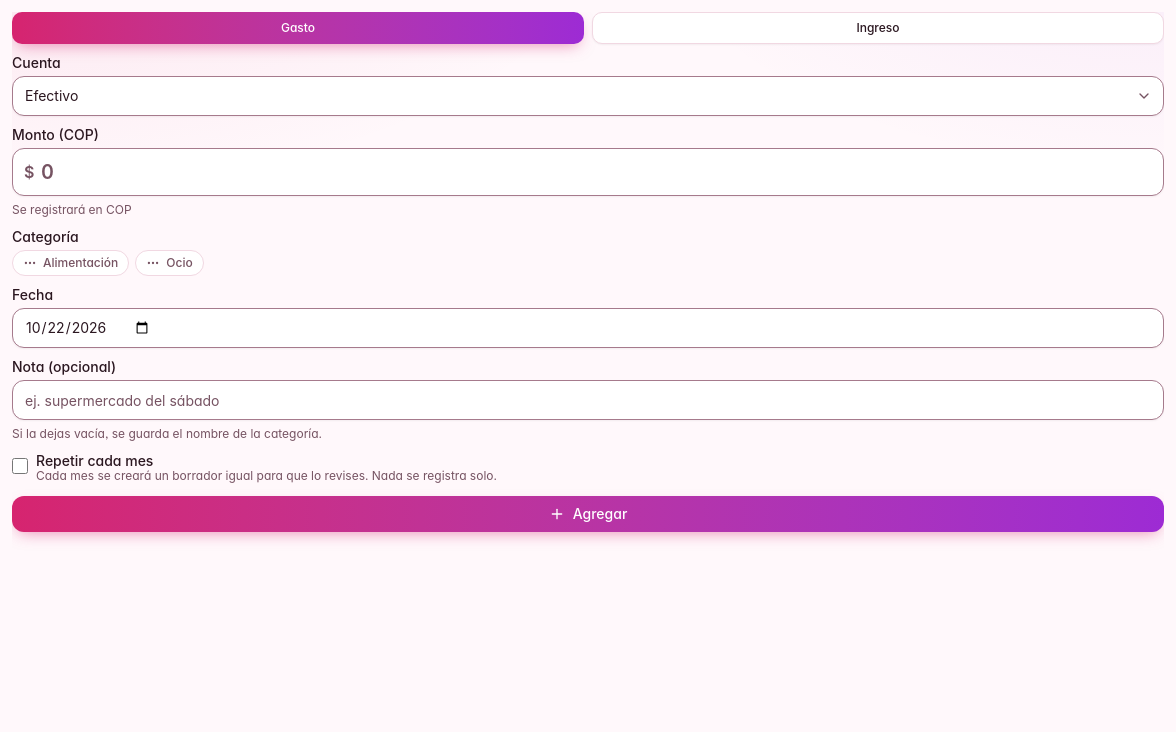
Scenario: QuickTransactionForm › no registra nada sin categoría
The width and height of the screenshot is (1176, 732).
Type "15000" into the field labelled "Monto (COP)" at [588, 172], box [12,148,1164,196]
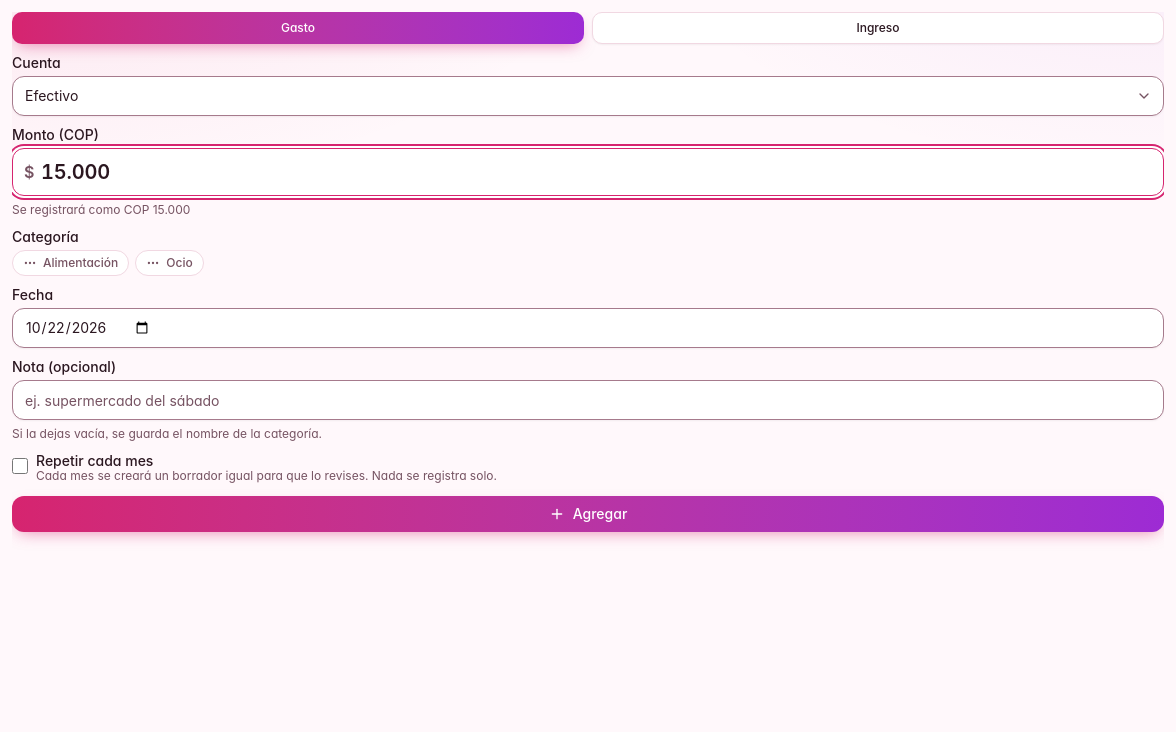
Click the button "Agregar" at [588, 514], box [12,496,1164,532]
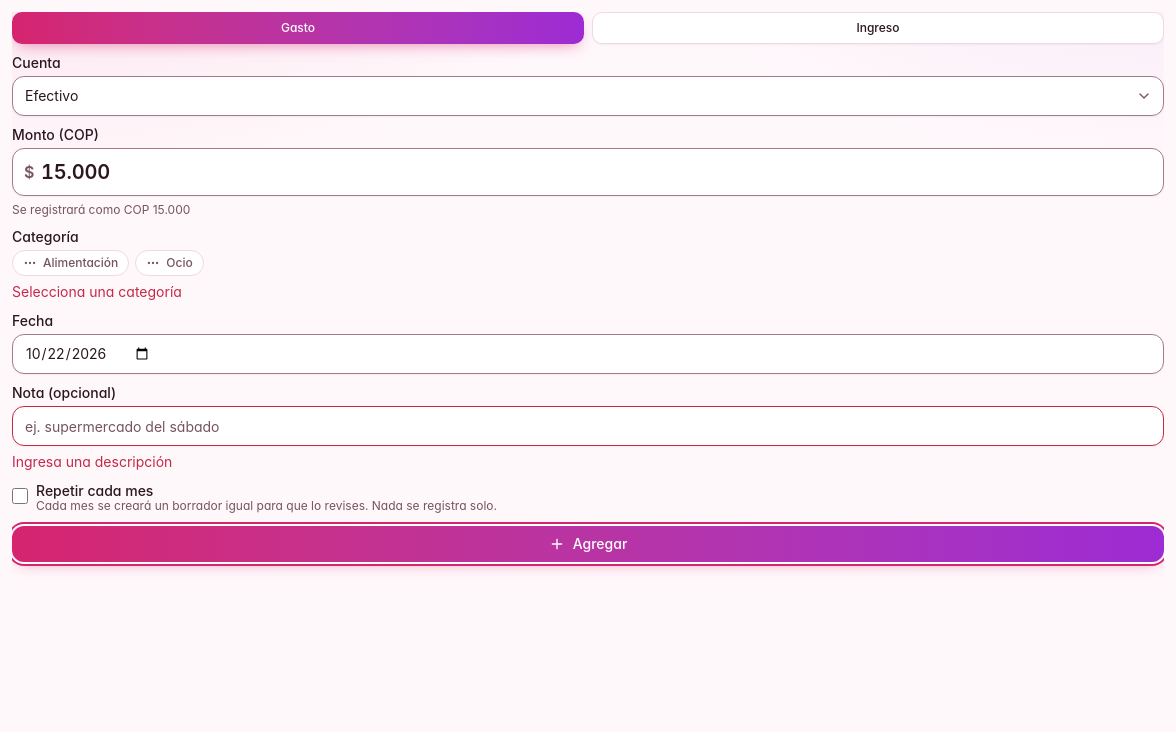
Now the text "Selecciona una categoría" is shown, box [12,283,182,300]
